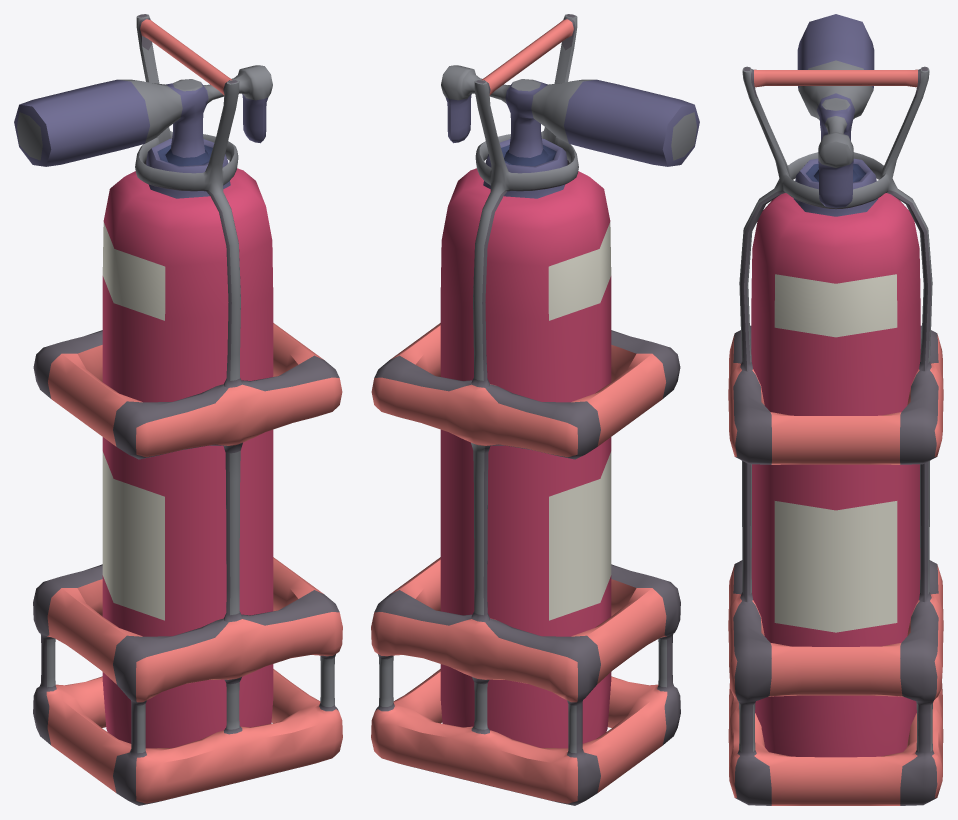
File: redfueltank.fbx
3 renders of one model, left to right at view 1: azimuth 30°, elevation 25°; view 2: azimuth 150°, elevation 25°; view 3: azimuth 270°, elevation 25°, orthographic.
Visible parts, largest first — view 1: Cube, Cube.001; view 2: Cube, Cube.001; view 3: Cube, Cube.001.
Part boxes in pixels (bbox=[...]): Cube: bbox=[14, 65, 273, 748]; Cube.001: bbox=[33, 14, 342, 805]; Cube: bbox=[440, 65, 699, 748]; Cube.001: bbox=[371, 14, 680, 805]; Cube: bbox=[751, 14, 920, 757]; Cube.001: bbox=[728, 66, 943, 805].
Bounding box in the file's own units: 68.76 × 173 × 48.91.
